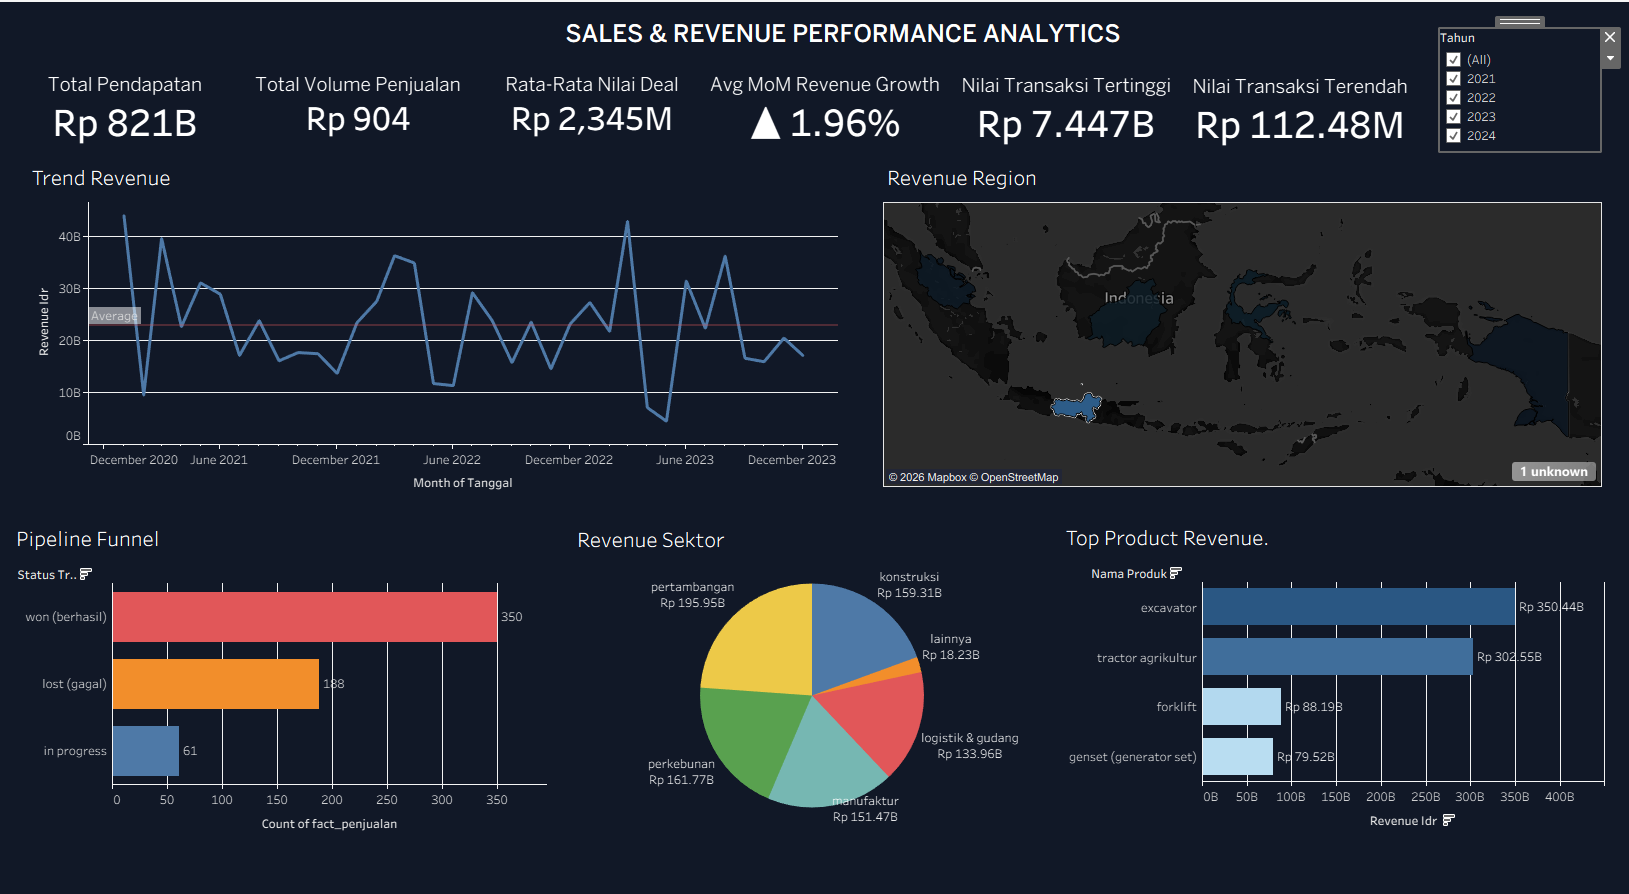

Layout of this report page (visuals, bound fields, positions):
{"tool":"tableau","page":{"name":"Dashboard","canvas":[1000,1000],"units":"permille","ordinal":0},"visuals":[{"type":"filter","title":"Trend Revenue","param":"[federated.09re97o0z4acwz12lu96e07h2kg6].[none:tahun:ok]","box":[884.1,30.1,98.1,136.2]},{"type":"worksheet","title":"Kpi_Avg Growth","mark":"Automatic","box":[433.5,70.3,146.5,100.5]},{"type":"worksheet","title":"Kpi_Total Volume","mark":"Automatic","box":[153.7,73.7,133.1,83.7]},{"type":"worksheet","title":"Kpi_Avg Deal Value","mark":"Automatic","box":[297.6,73.7,133.1,83.7]},{"type":"worksheet","title":"Kpi_Total Revenue","mark":"Automatic","box":[3.6,78.1,147.6,83.7]},{"type":"worksheet","title":"Kpi_Max Deal Value","mark":"Automatic","box":[588,79.2,133.1,83.7]},{"type":"worksheet","title":"Kpi_Min Deal Value","mark":"Automatic","box":[729.6,80.4,136.7,83.7]},{"type":"worksheet","title":"Trend Revenue","mark":"Automatic","rows":["revenue_idr"],"cols":["tanggal"],"box":[18.4,175.2,496.6,378.4]},{"type":"worksheet","title":"Revenue Region","mark":"Automatic","box":[542.6,175.2,440.8,366.1]},{"type":"worksheet","title":"Top Product Revenue.","mark":"Automatic","rows":["nama_produk"],"cols":["revenue_idr"],"box":[652.4,577,332.9,353.8]},{"type":"worksheet","title":"Pipeline Funnel","mark":"Automatic","rows":["status_transaksi"],"cols":["fact_penjualan_E3C2228EDD1743BDA1CF5F38B33AF54A"],"box":[8.6,578.1,328,356]},{"type":"worksheet","title":"Revenue Sektor","mark":"Pie","box":[352.5,579.2,293.1,341.5]}]}

Visuals, with their boxes on the dashboard's canvas, which has no fixed pixel size, in thousandths of its width and height (x1, y1, x2, y2). These are canvas units, not pixel positions in the 1629x894 screenshot, which may show the page scaled, cropped or inside an application window:
"Trend Revenue" filter: bbox(884, 30, 982, 166)
"Kpi_Avg Growth" worksheet: bbox(434, 70, 580, 171)
"Kpi_Total Volume" worksheet: bbox(154, 74, 287, 157)
"Kpi_Avg Deal Value" worksheet: bbox(298, 74, 431, 157)
"Kpi_Total Revenue" worksheet: bbox(4, 78, 151, 162)
"Kpi_Max Deal Value" worksheet: bbox(588, 79, 721, 163)
"Kpi_Min Deal Value" worksheet: bbox(730, 80, 866, 164)
"Trend Revenue" worksheet: bbox(18, 175, 515, 554)
"Revenue Region" worksheet: bbox(543, 175, 983, 541)
"Top Product Revenue." worksheet: bbox(652, 577, 985, 931)
"Pipeline Funnel" worksheet: bbox(9, 578, 337, 934)
"Revenue Sektor" worksheet (Pie marks): bbox(352, 579, 646, 921)
